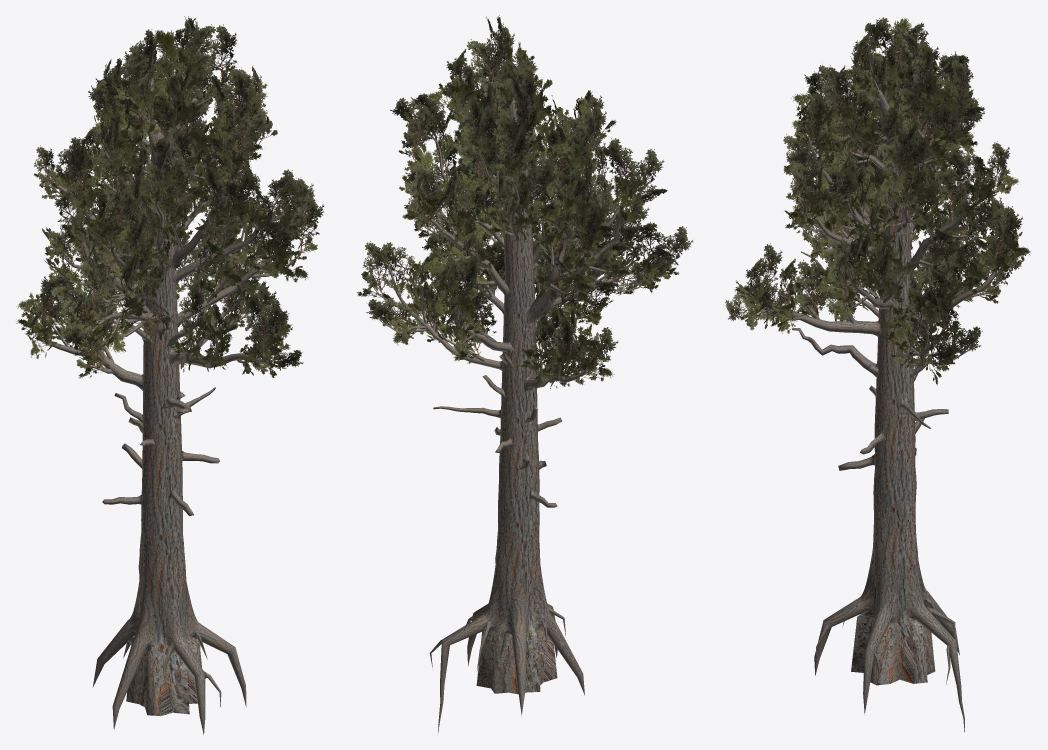
File: pine_tree (1).glb
The picture shows the model from 3 angles, left to right: view 1: azimuth 30°, elevation 25°; view 2: azimuth 150°, elevation 25°; view 3: azimuth 270°, elevation 25°; orthographic projection. The views are drawn at different scales.
Parts seen in each view (by area): view 1: Pine02_LOD0; view 2: Pine02_LOD0; view 3: Pine02_LOD0.
Part boxes in pixels (x1,y1,x2,y2): Pine02_LOD0: [16, 16, 324, 734]; Pine02_LOD0: [357, 15, 693, 732]; Pine02_LOD0: [725, 17, 1030, 732].
Bounding box in the file's own units: 9.63 × 23.73 × 9.43.
2 materials, 2 textured.
